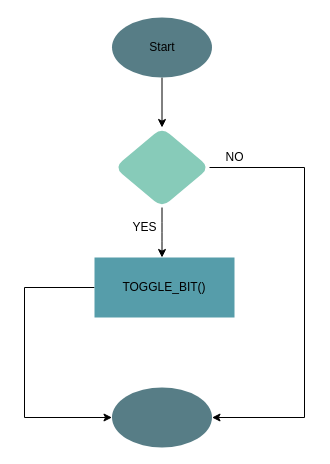
The diagram is 330 pixels wide and 464 high, and some of its shapes have lost their labels. Here are the shapes that lost their labels. From the top down, the centre of each, then its label:
At (161,167): "*pin == NULL".
At (162,417): "Stop".
